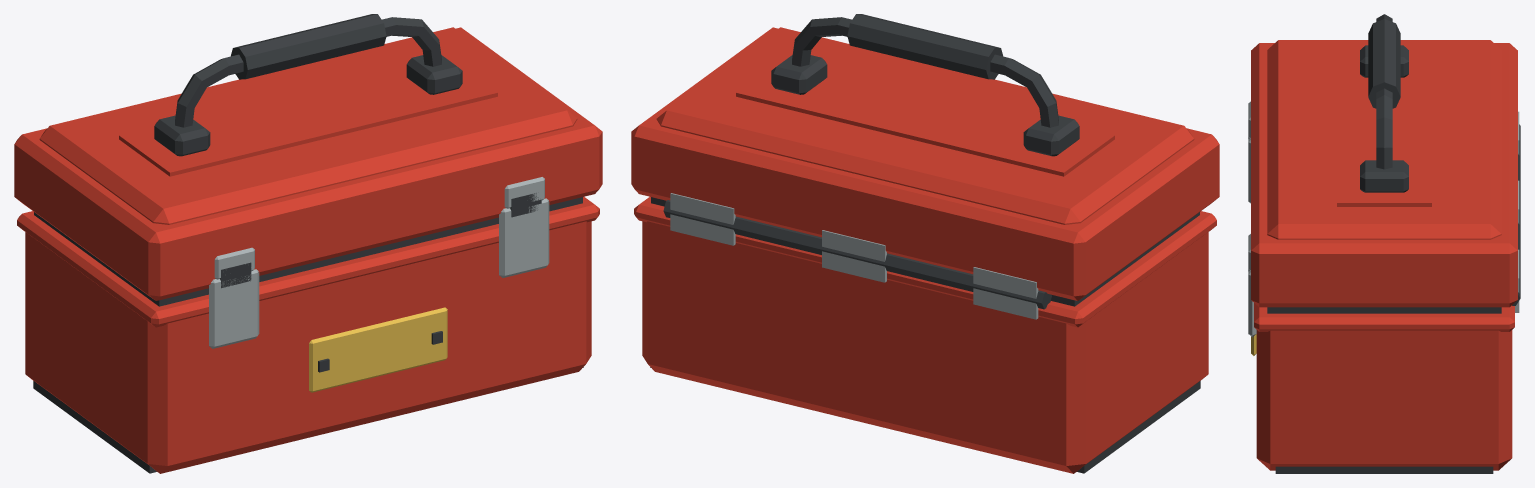
Rendered from sm_prop_cargo_toolbox.glb.
3 renders of one model, left to right at view 1: azimuth 30°, elevation 25°; view 2: azimuth 150°, elevation 25°; view 3: azimuth 270°, elevation 25°, orthographic. The views are drawn at different scales.
Visible parts, largest first — view 1: Toolbox; view 2: Toolbox; view 3: Toolbox.
Part boxes in pixels (x1=…): Toolbox: x1=14, y1=14, x2=602, y2=473; Toolbox: x1=631, y1=14, x2=1219, y2=473; Toolbox: x1=1248, y1=14, x2=1520, y2=473.
Size of the model in its own units: 0.36 by 0.263 by 0.2.
